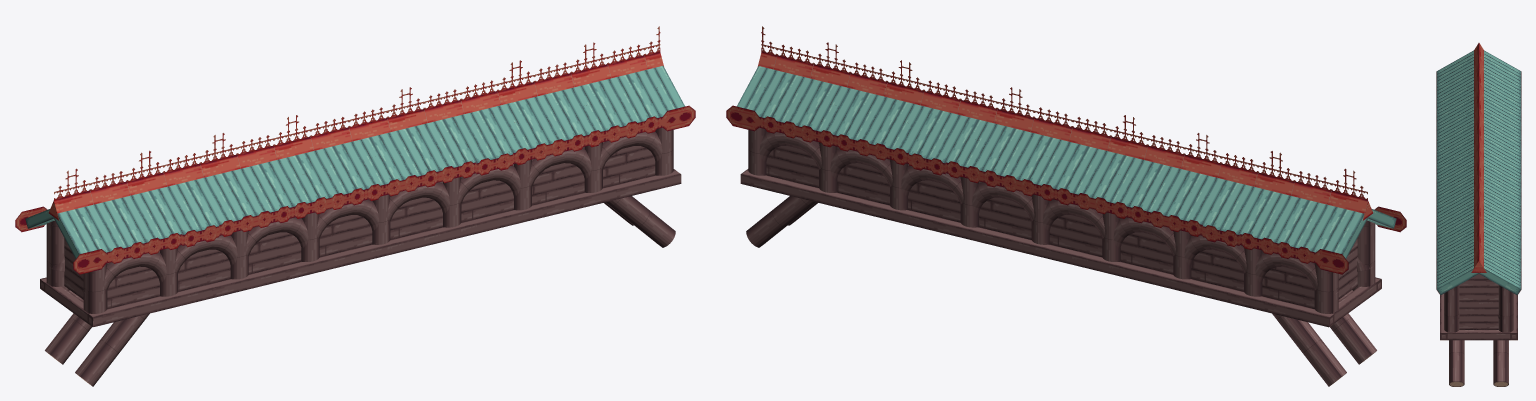
The model's file is house_bridge.fbx.
3 views of the same model, side by side, from view 1: azimuth 30°, elevation 25°; view 2: azimuth 150°, elevation 25°; view 3: azimuth 270°, elevation 25° (orthographic). The views are drawn at different scales.
Parts seen in each view (by area): view 1: house_bridge; view 2: house_bridge; view 3: house_bridge.
Part boxes in pixels (box(x1,y1,x2,y2)): house_bridge: box(15, 26, 695, 386); house_bridge: box(726, 26, 1406, 386); house_bridge: box(1436, 43, 1521, 386).
Size of the model in its own units: 1700 by 565 by 273.
